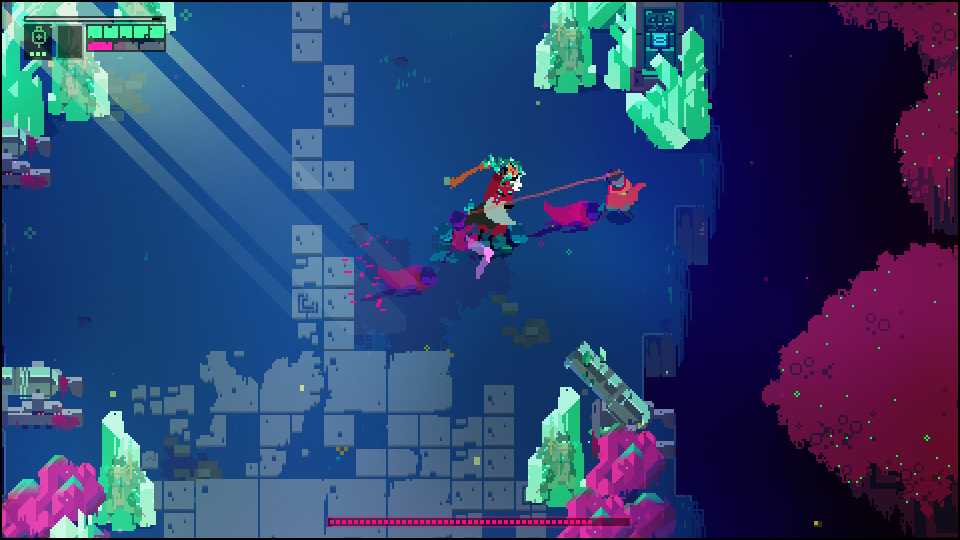hanged_man: (456, 155, 526, 255)
player: (598, 168, 647, 225)
